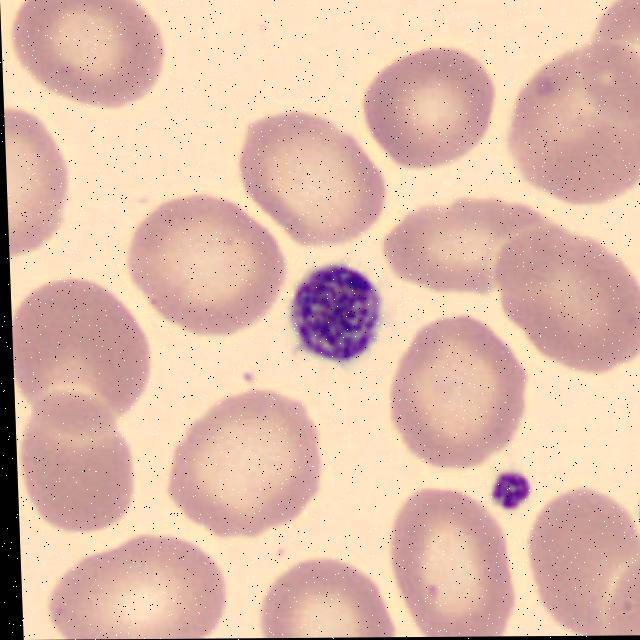platelets: (288, 260, 388, 367), (480, 463, 537, 516), (634, 482, 640, 533)
rbc: (218, 98, 402, 251), (156, 385, 330, 540), (10, 268, 160, 443), (117, 190, 293, 337), (506, 36, 640, 214), (487, 216, 640, 371), (390, 306, 531, 467), (49, 529, 237, 640), (387, 488, 524, 637), (361, 40, 502, 180), (14, 379, 144, 529), (0, 0, 174, 105), (383, 195, 549, 302), (530, 483, 640, 634), (243, 546, 397, 638), (3, 76, 76, 258), (578, 0, 640, 128), (607, 537, 640, 636)
